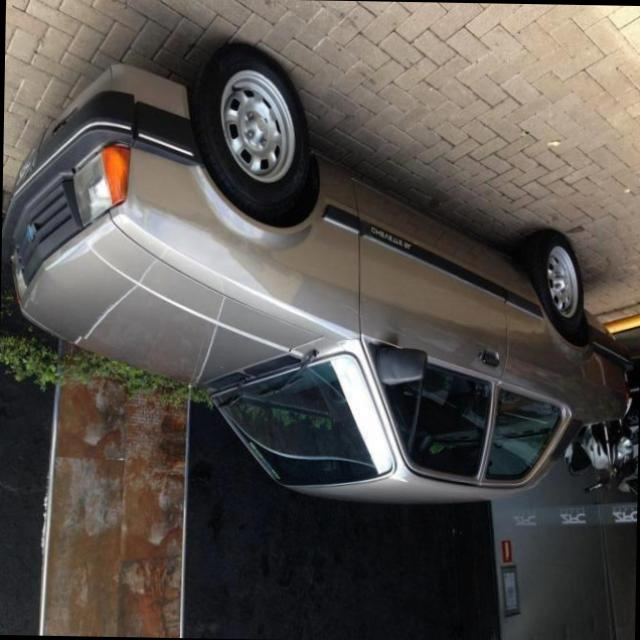car: (0, 36, 640, 498)
